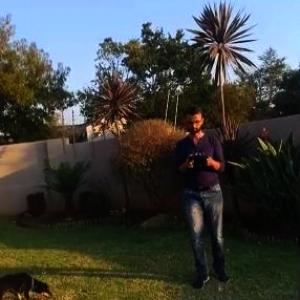follow: (176, 100, 234, 290)
null: (1, 266, 56, 299)
